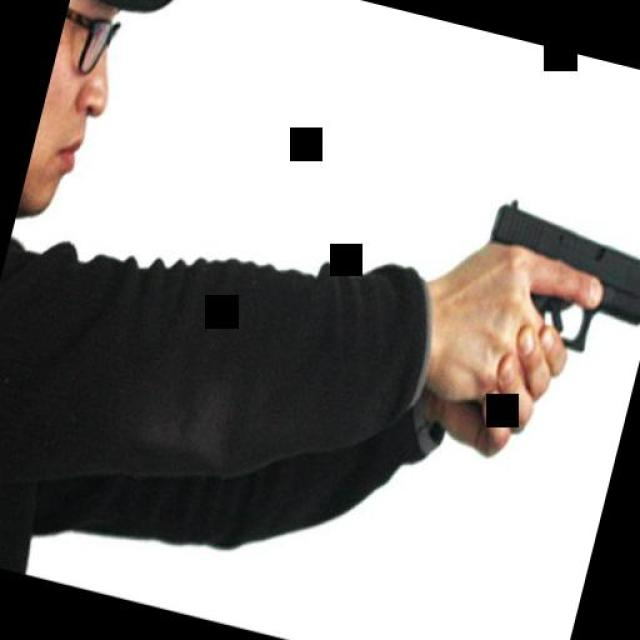gun: (462, 184, 640, 374)
